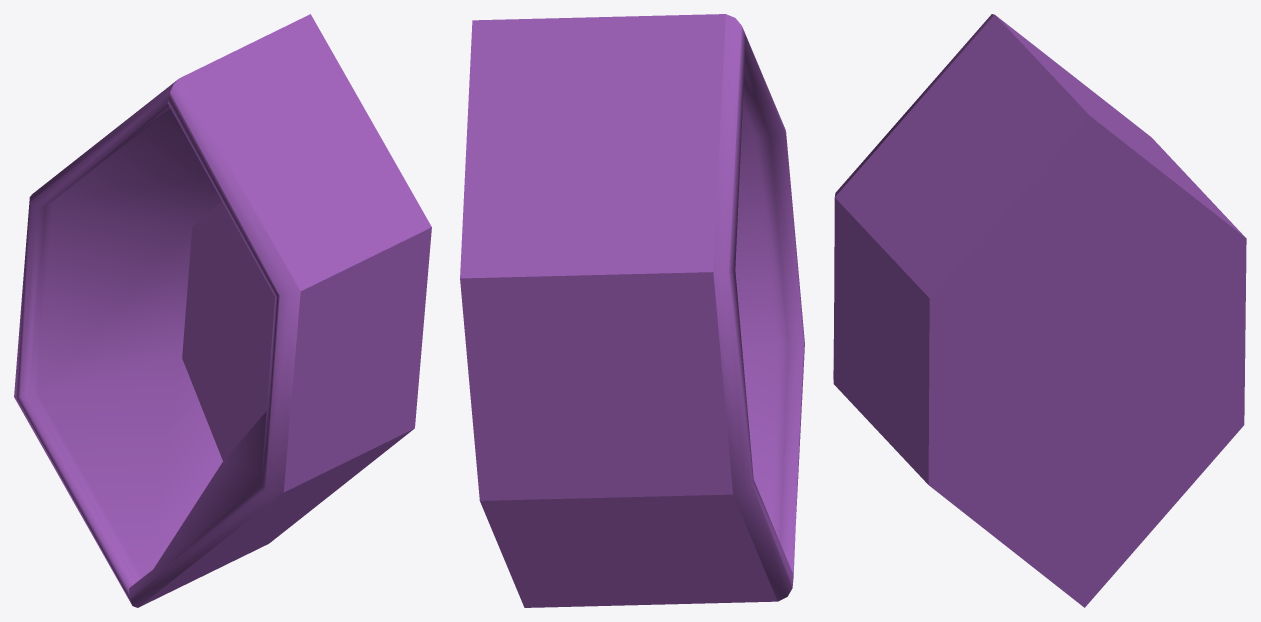
Rendered from BL5_8shapes_Hex_Classic_Metal.001 3.glb.
The picture shows the model from 3 angles, left to right: view 1: azimuth 30°, elevation 25°; view 2: azimuth 150°, elevation 25°; view 3: azimuth 270°, elevation 25°; orthographic projection. The views are drawn at different scales.
Visible parts, largest first — view 1: BL5_8shapes_Hex_Classic_Metal.001; view 2: BL5_8shapes_Hex_Classic_Metal.001; view 3: BL5_8shapes_Hex_Classic_Metal.001.
Part boxes in pixels (x1=…): BL5_8shapes_Hex_Classic_Metal.001: x1=14, y1=14, x2=431, y2=607; BL5_8shapes_Hex_Classic_Metal.001: x1=460, y1=14, x2=804, y2=607; BL5_8shapes_Hex_Classic_Metal.001: x1=833, y1=14, x2=1246, y2=607.
Bounding box in the file's own units: 0.4491 × 0.7294 × 0.5173.
